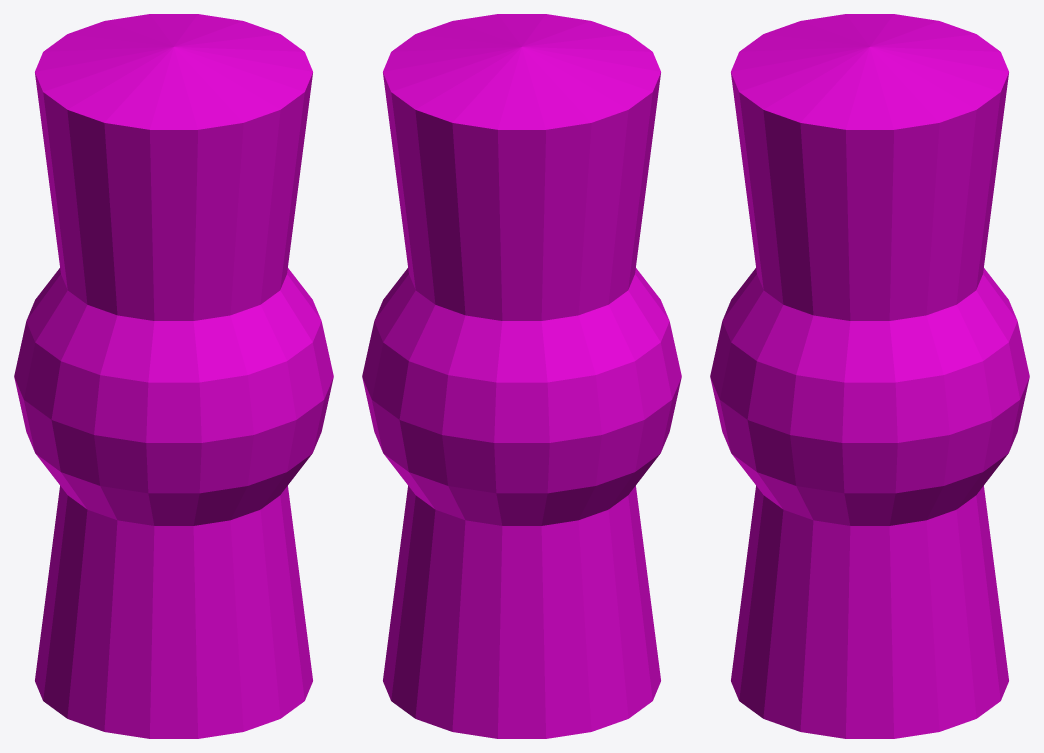
File: No4Nagaboso.fbx
The picture shows the model from 3 angles, left to right: view 1: azimuth 30°, elevation 25°; view 2: azimuth 150°, elevation 25°; view 3: azimuth 270°, elevation 25°; orthographic projection.
Parts seen in each view (by area): view 1: No4Nagaboso; view 2: No4Nagaboso; view 3: No4Nagaboso.
Boxes of the visible parts, bbox=[...] form: No4Nagaboso: bbox=[14, 14, 333, 738]; No4Nagaboso: bbox=[362, 14, 681, 738]; No4Nagaboso: bbox=[710, 14, 1029, 738].
Bounding box in the file's own units: 197 × 455 × 200.
